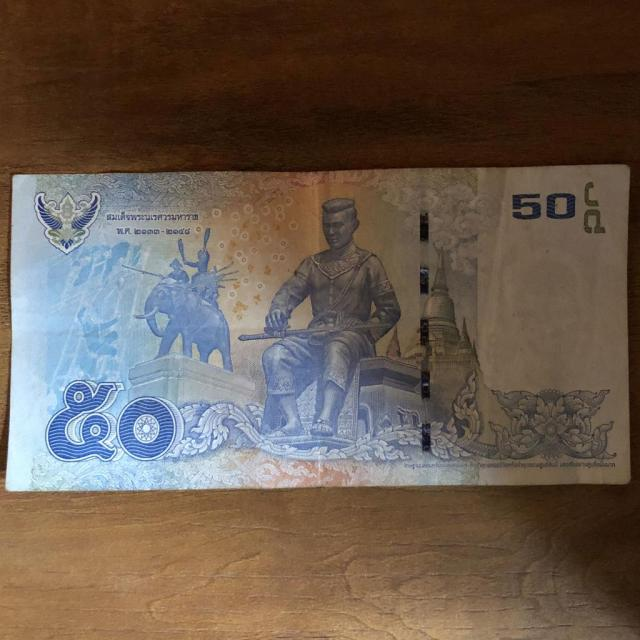THAI50: (2, 161, 633, 497)
